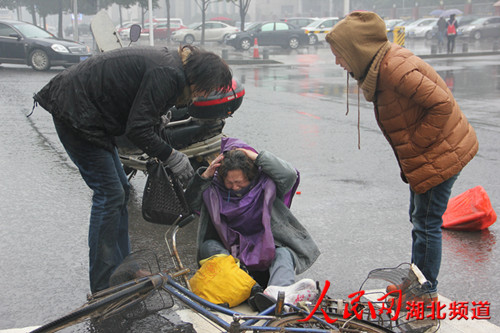fall: (179, 119, 330, 326)
